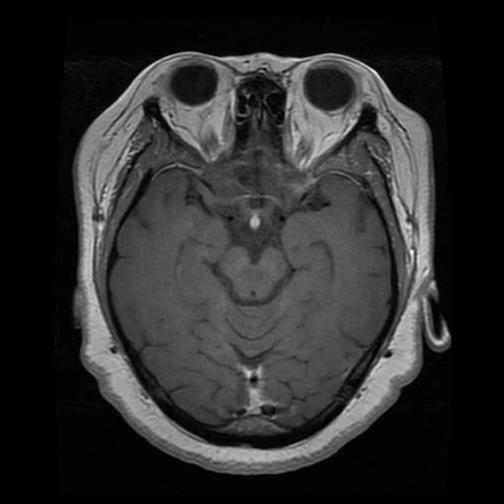Tumour-Pituitary: (229, 199, 285, 248)
